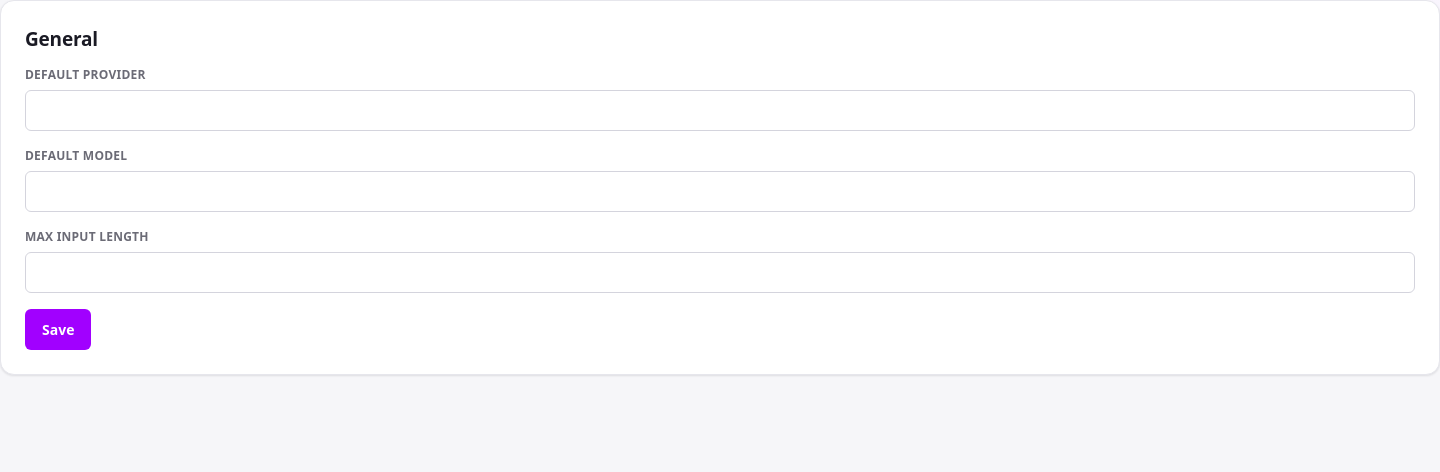
it: GeneralSection › shows a conflict banner on 409
The width and height of the screenshot is (1440, 472).
Expected: the field labelled "Default model" is shown, [25, 170, 1415, 212]
Click the button "Save" at (58, 329), box [25, 308, 91, 350]
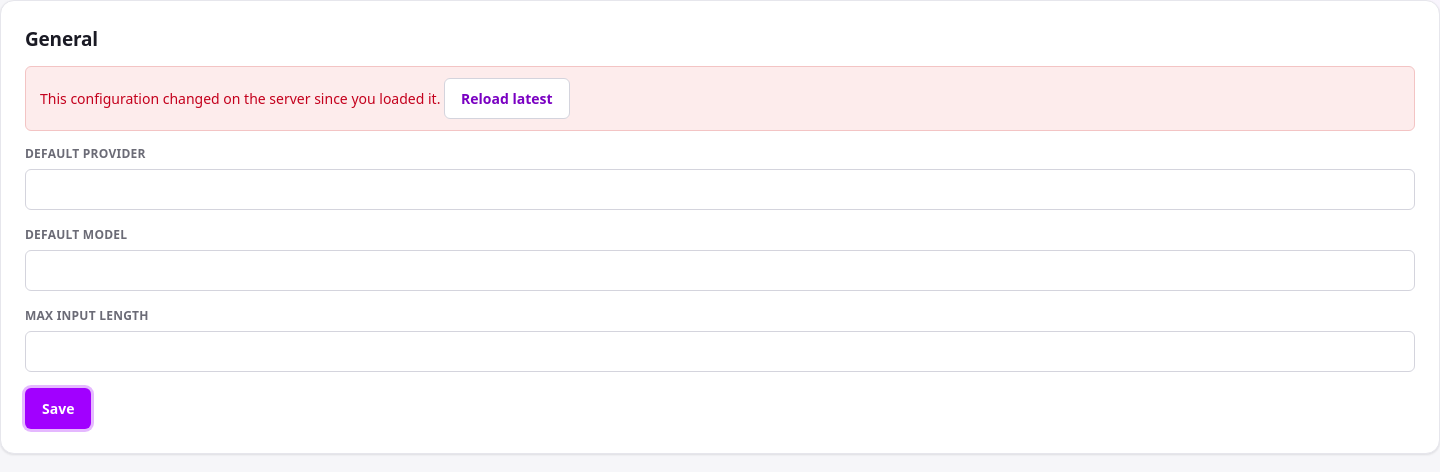
Expected: the message shows "changed on the server", [40, 88, 440, 108]
